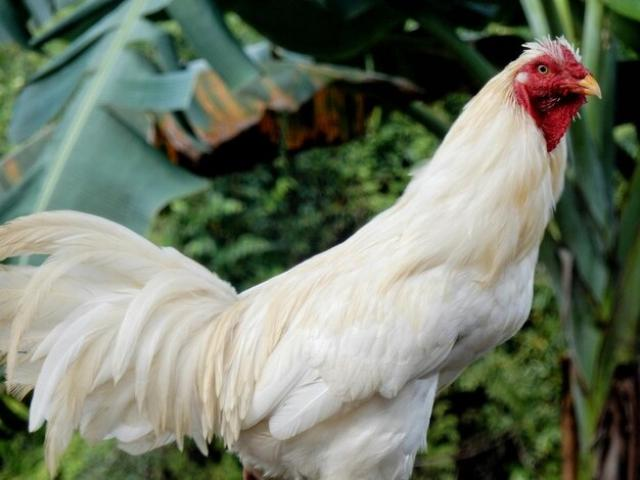Chicken: (0, 32, 605, 480)
